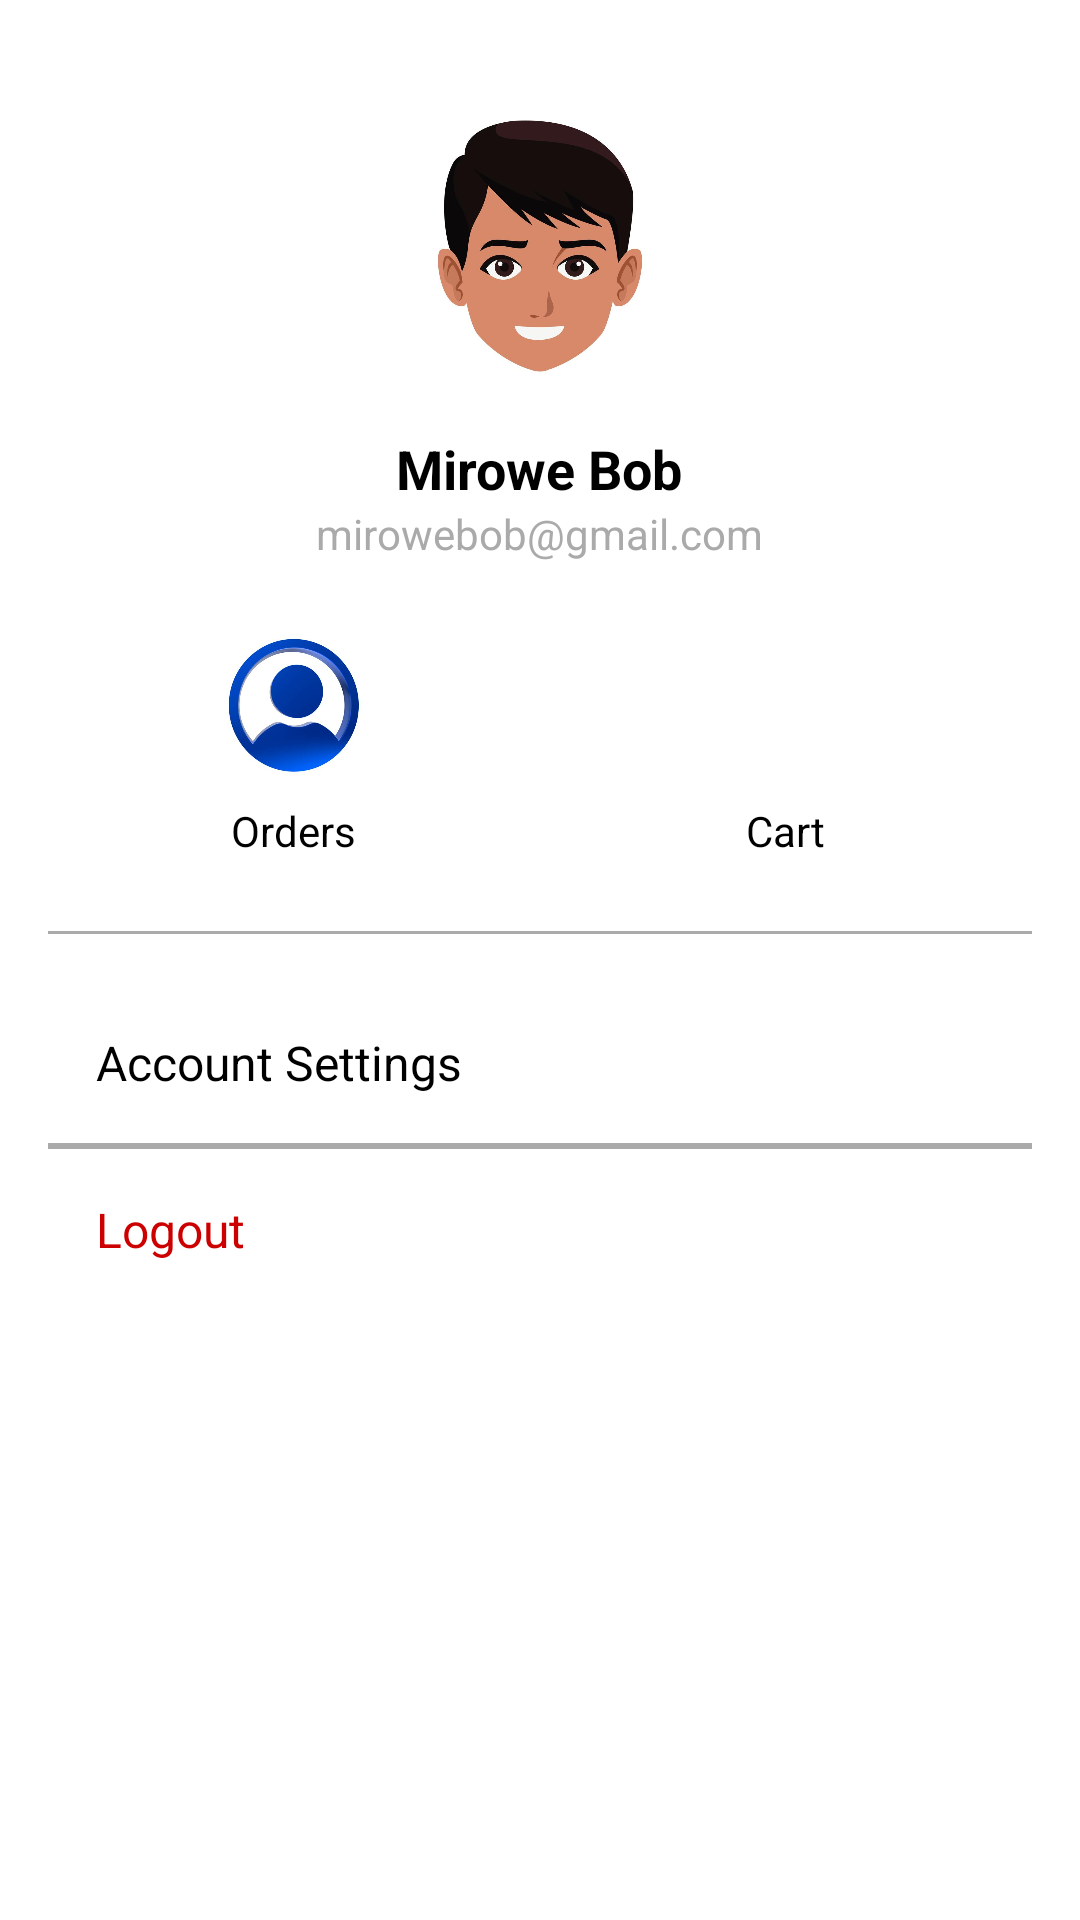

Where to tap for icons on this 1080 × 1920 app screen, as point (x, y):
Profile Picture: point (540, 246)
